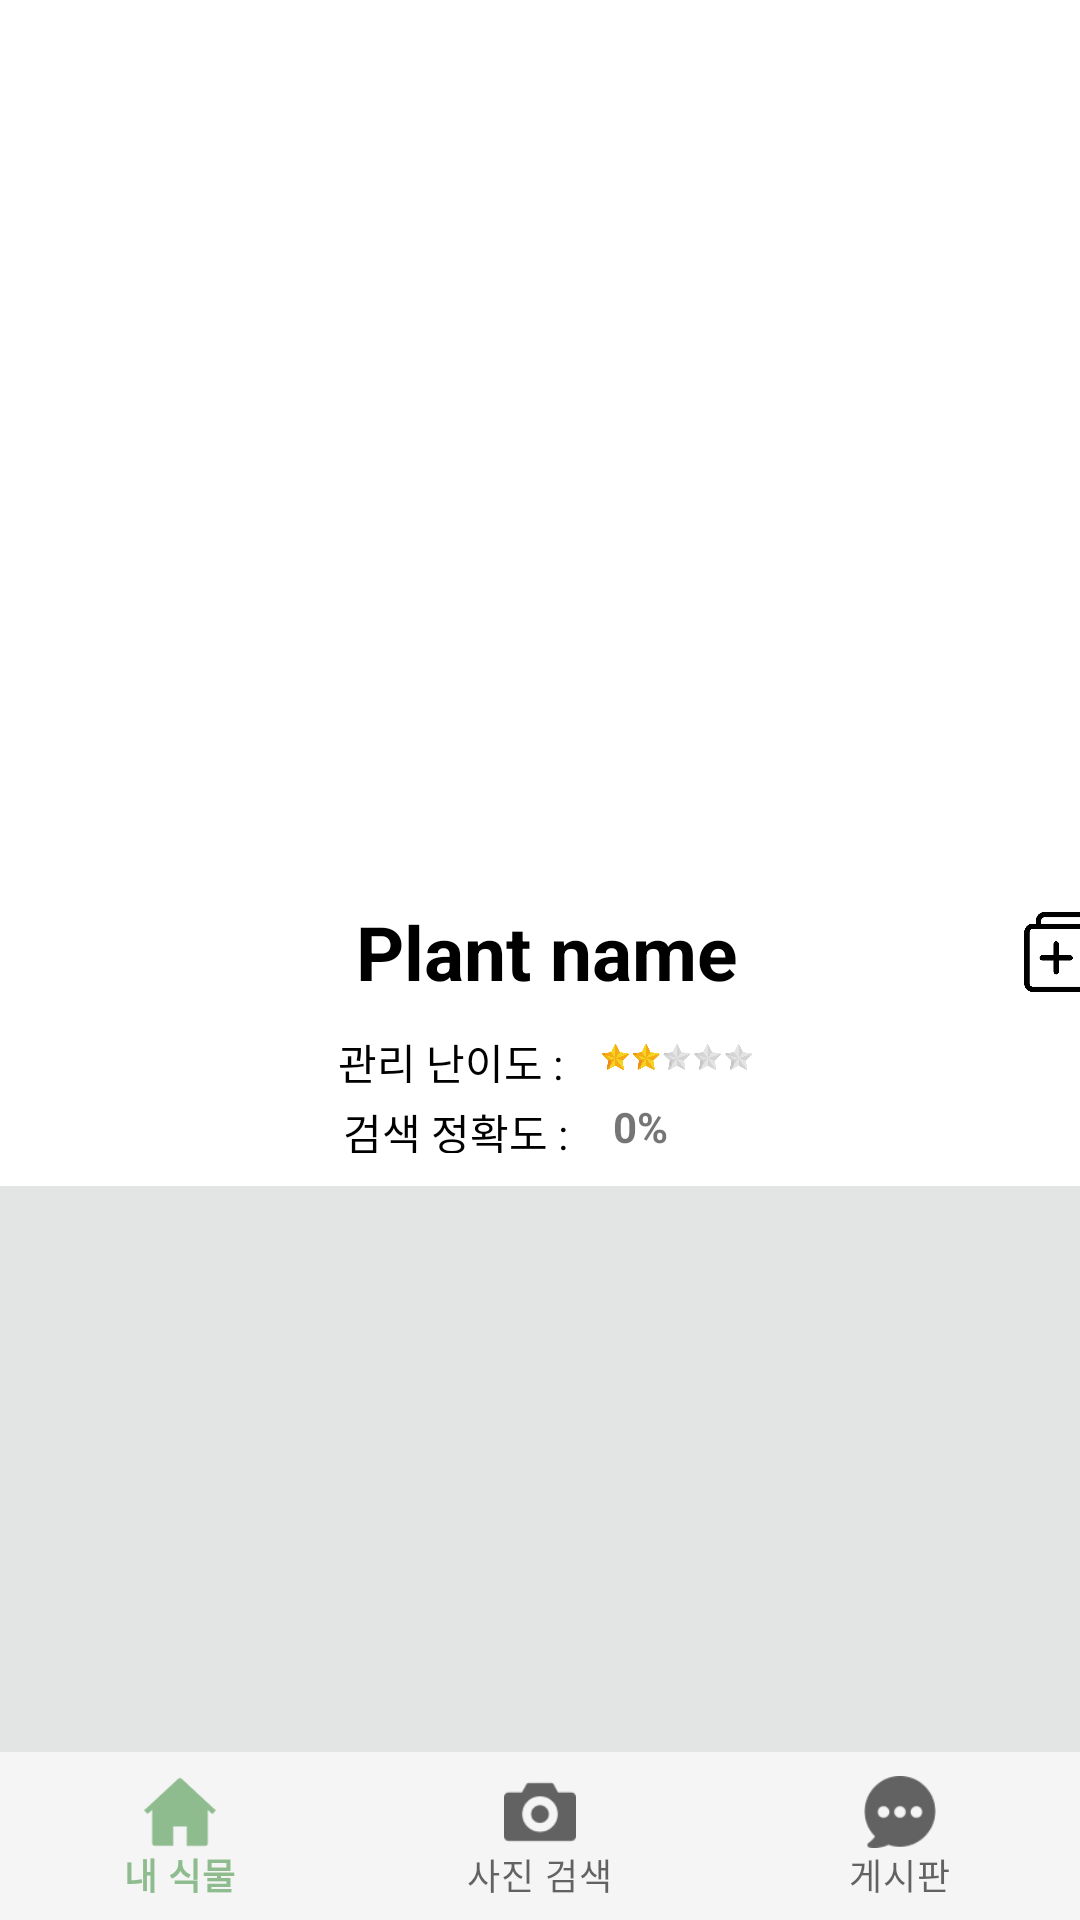

Named icons in this screenshot (1080×1920) and their bounding boxes, (x1, y1, x2, y2):
star two: (602, 1044, 752, 1070)
